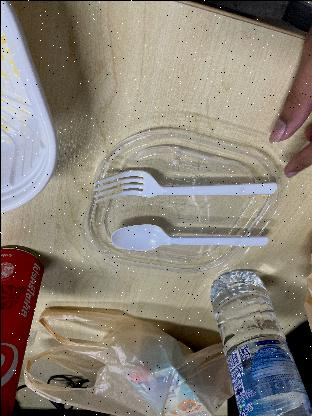Others: (87, 166, 283, 206), (107, 222, 272, 248)
